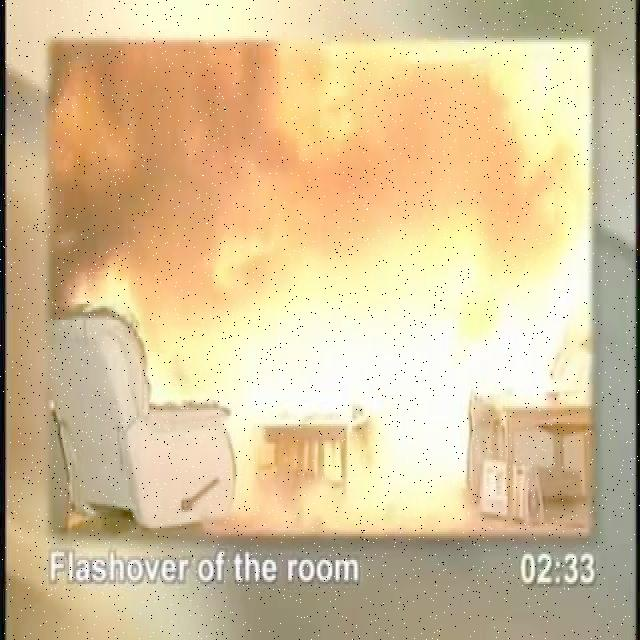fire: (252, 257, 558, 499)
